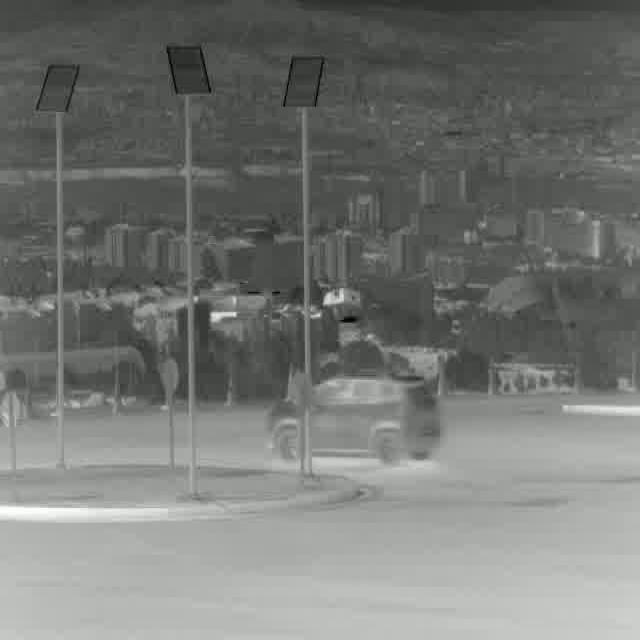Car: (266, 372, 442, 469)
